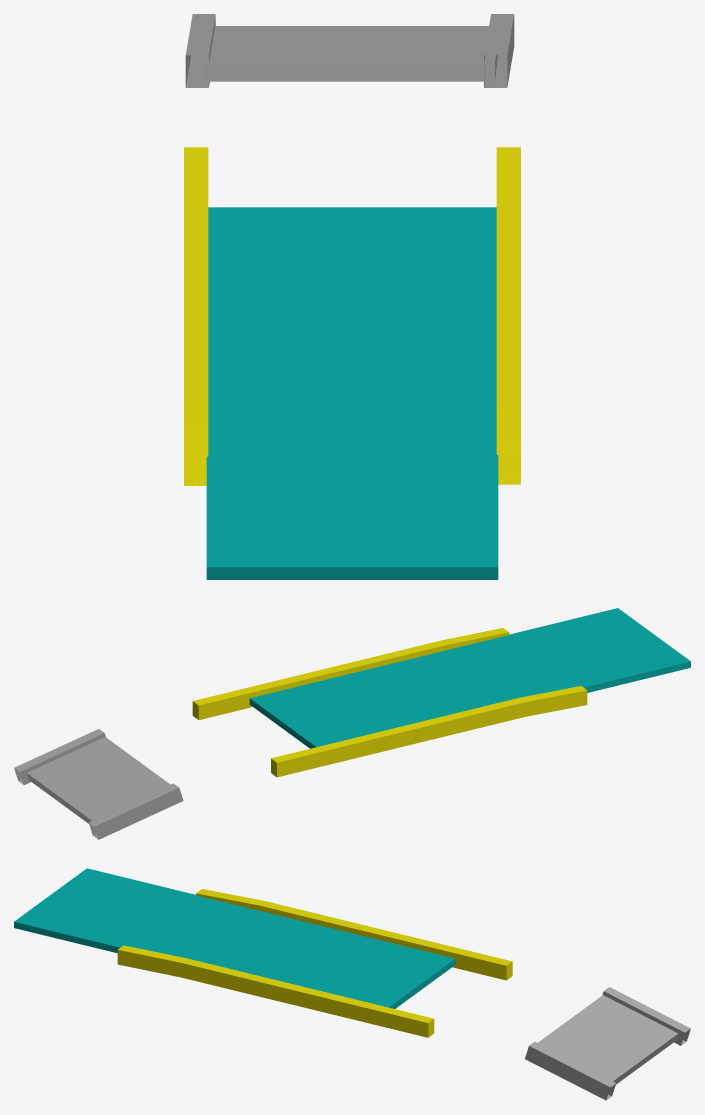
Rendered from _ANM_Bridge.fbx.
3 views of the same model, one above another, from view 1: azimuth 30°, elevation 25°; view 2: azimuth 150°, elevation 25°; view 3: azimuth 270°, elevation 25° (orthographic). The views are drawn at different scales.
Parts seen in each view (by area): view 1: ANM_TrapDoorBody, BridgerEnd, CNT_TrapDoorFrame; view 2: ANM_TrapDoorBody, CNT_TrapDoorFrame, BridgerEnd; view 3: ANM_TrapDoorBody, CNT_TrapDoorFrame, BridgerEnd.
Part boxes in pixels (x1,y1,x2,y2): ANM_TrapDoorBody: (206,207,498,579); BridgerEnd: (185,14,514,87); CNT_TrapDoorFrame: (184,147,520,485); ANM_TrapDoorBody: (249,608,690,748); CNT_TrapDoorFrame: (192,628,587,777); BridgerEnd: (14,729,183,839); ANM_TrapDoorBody: (14,868,455,1008); CNT_TrapDoorFrame: (117,889,512,1037); BridgerEnd: (525,987,690,1100).
Bounding box in the file's own units: 15.79 × 1.3 × 22.27.
